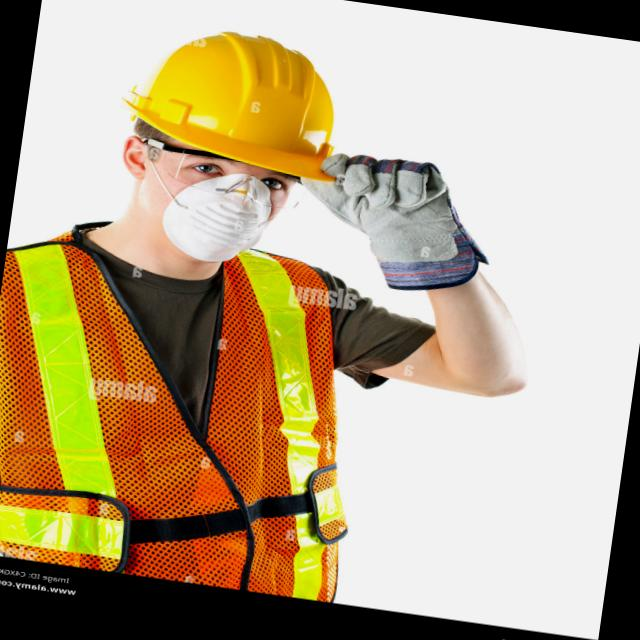goggles: (111, 134, 342, 221)
helmet: (100, 18, 370, 182)
vest: (0, 203, 353, 602)
